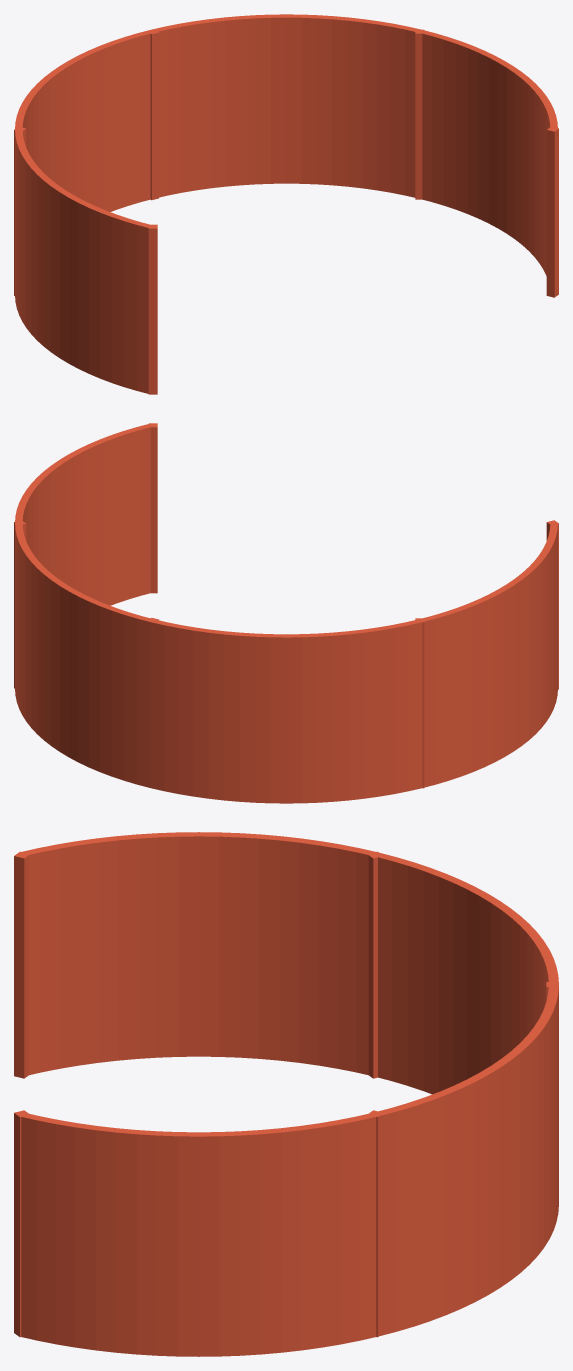
Rendered from HomebaseRoundHangarCollision_LOD00.gltf.
The picture shows the model from 3 angles, top to bottom: view 1: azimuth 30°, elevation 25°; view 2: azimuth 150°, elevation 25°; view 3: azimuth 270°, elevation 25°; orthographic projection. The views are drawn at different scales.
Visible parts, largest first — view 1: RoundHangarWallCollider, RoundHangarColumnCollider_60, RoundHangarColumnCollider_-60, RoundHangarColumnCollider_180, RoundHangarColumnCollider_120; view 2: RoundHangarWallCollider, RoundHangarColumnCollider_60, RoundHangarColumnCollider_240; view 3: RoundHangarWallCollider, RoundHangarColumnCollider_-60, RoundHangarColumnCollider_240, RoundHangarColumnCollider_60, RoundHangarColumnCollider_120.
Boxes of the visible parts, left/top/right/bottom form: RoundHangarWallCollider: left=15, top=14, right=557, bottom=393; RoundHangarColumnCollider_60: left=546, top=127, right=558, bottom=297; RoundHangarColumnCollider_-60: left=148, top=224, right=157, bottom=394; RoundHangarColumnCollider_180: left=150, top=31, right=159, bottom=200; RoundHangarColumnCollider_120: left=415, top=29, right=423, bottom=199; RoundHangarWallCollider: left=15, top=423, right=557, bottom=803; RoundHangarColumnCollider_60: left=148, top=423, right=157, bottom=593; RoundHangarColumnCollider_240: left=415, top=618, right=424, bottom=788; RoundHangarWallCollider: left=19, top=832, right=558, bottom=1356; RoundHangarColumnCollider_-60: left=14, top=851, right=28, bottom=1078; RoundHangarColumnCollider_240: left=368, top=851, right=378, bottom=1078; RoundHangarColumnCollider_60: left=14, top=1110, right=28, bottom=1337; RoundHangarColumnCollider_120: left=369, top=1110, right=378, bottom=1337.
Bounding box in the file's own units: 24.16 × 8.15 × 18.28.
